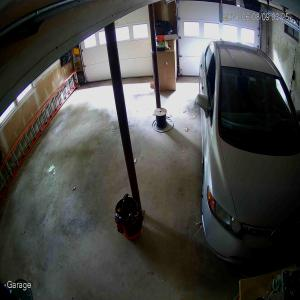honda civic: (196, 40, 300, 266)
tool bucket: (114, 193, 144, 240)
